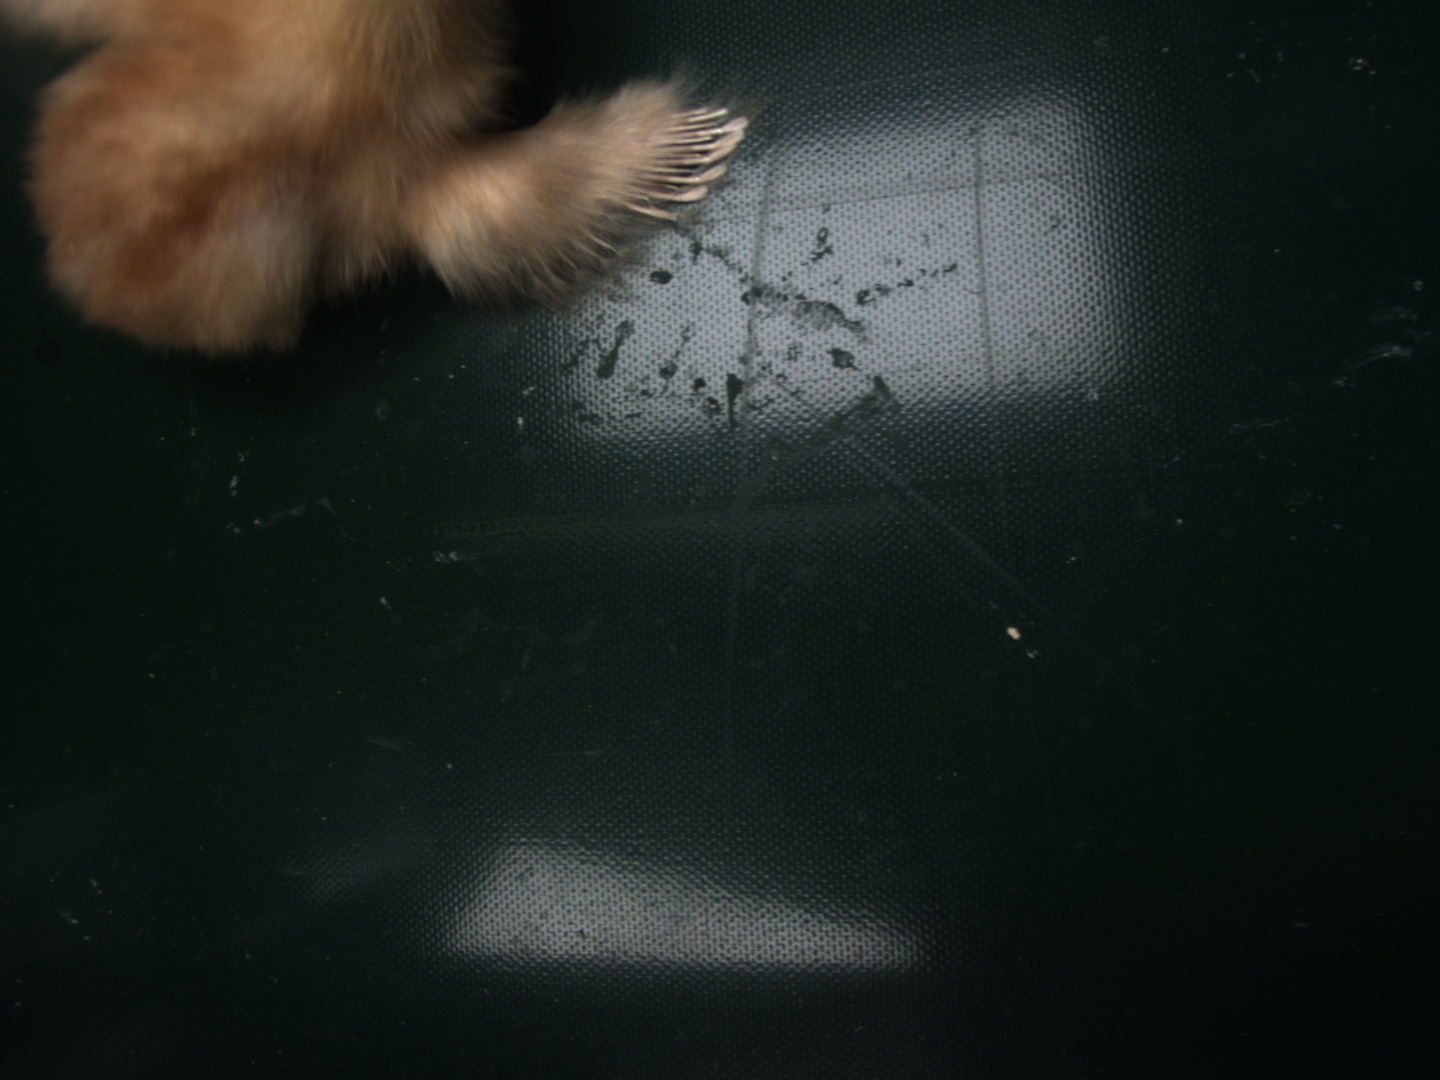female: (625, 107, 751, 223)
